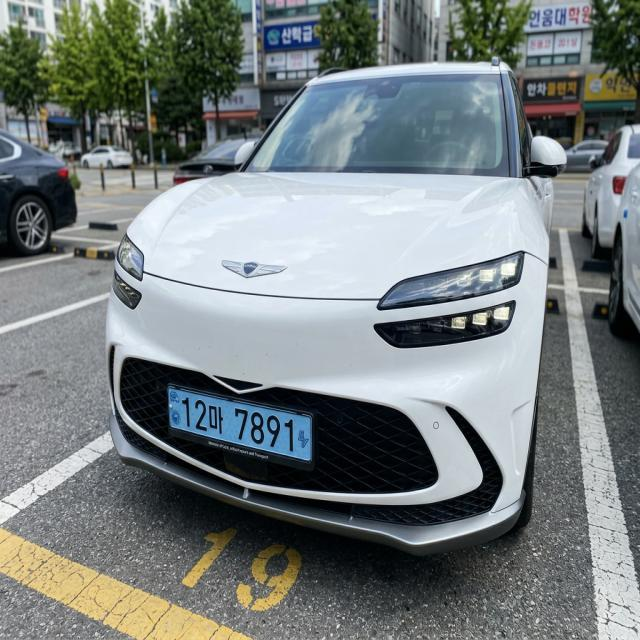car: (150, 373, 344, 474)
carev: (295, 411, 313, 462), (167, 386, 183, 432)
